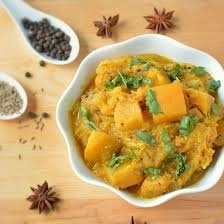sabzi: (67, 57, 224, 200)
